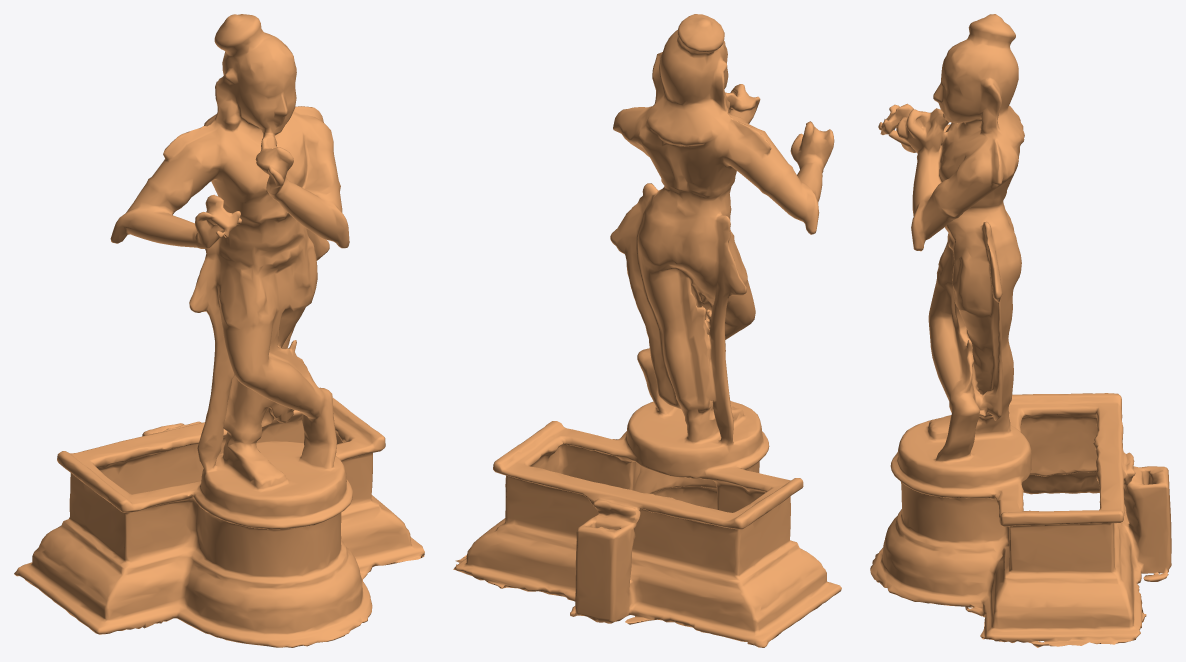
Rendered from Vainavam_Krishna_08.glb.
The picture shows the model from 3 angles, left to right: view 1: azimuth 30°, elevation 25°; view 2: azimuth 150°, elevation 25°; view 3: azimuth 270°, elevation 25°; orthographic projection. The views are drawn at different scales.
Visible parts, largest first — view 1: Vainavam_Krishna_08; view 2: Vainavam_Krishna_08; view 3: Vainavam_Krishna_08.
Part boxes in pixels (<box>): Vainavam_Krishna_08: <box>14,14,424,647</box>; Vainavam_Krishna_08: <box>453,14,841,647</box>; Vainavam_Krishna_08: <box>870,14,1171,647</box>.
Size of the model in its own units: 0.3427 by 0.5587 by 0.2789.
